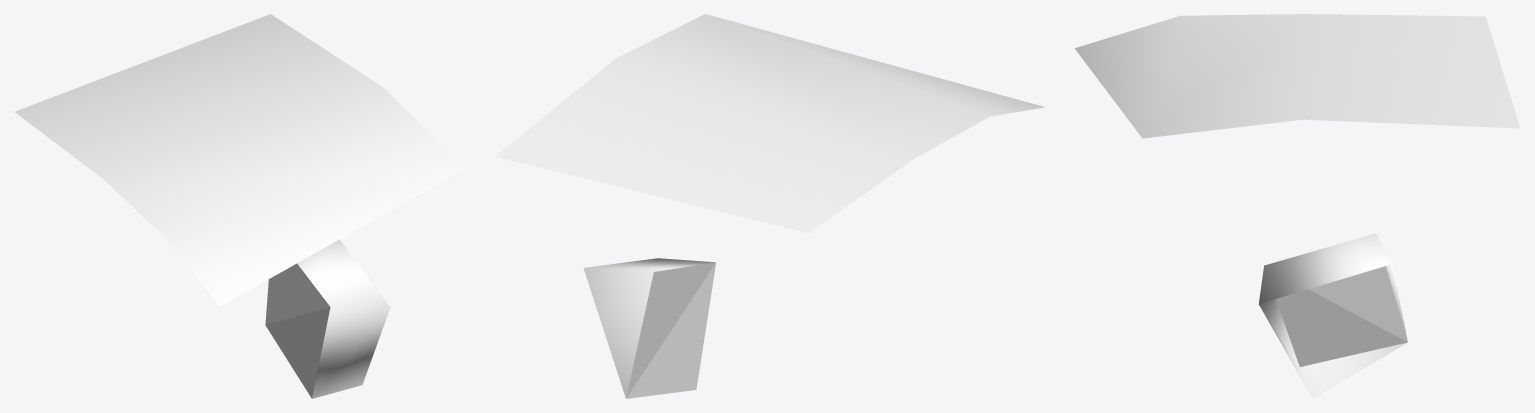
3 views of the same model, side by side, from view 1: azimuth 30°, elevation 25°; view 2: azimuth 150°, elevation 25°; view 3: azimuth 270°, elevation 25° (orthographic). The views are drawn at different scales.
Bounding box in the file's own units: 0.2987 × 0.2979 × 0.4199.
1 material, 1 textured.
